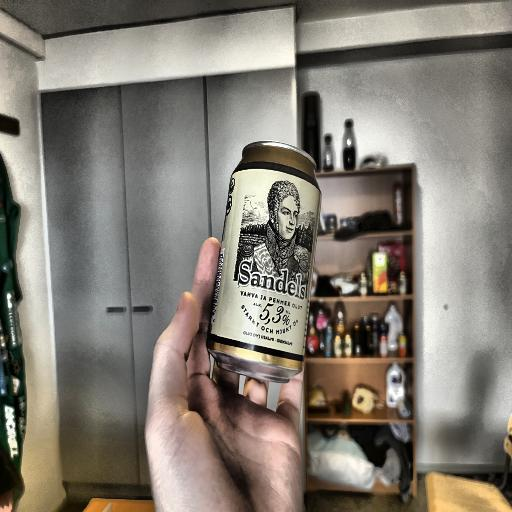sandels: (202, 147, 334, 372)
